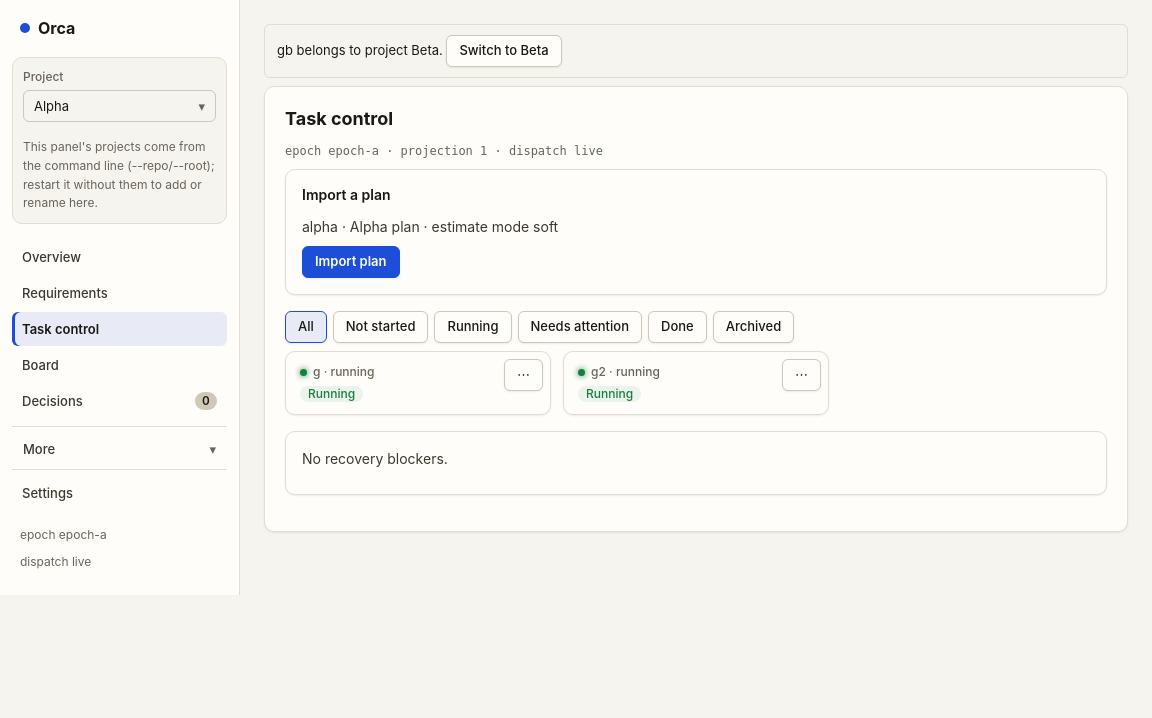
Test: another project's group (C33) › leaves the project unchanged, shows the line and the switch button; the button switches and opens the group
The width and height of the screenshot is (1152, 718).
expect the message with test id "route-notice" shows "gb belongs to project Beta.": met, box [277,42,443,58]
Click the button "Switch to Beta" at point(504, 51), box [446,35,562,67]
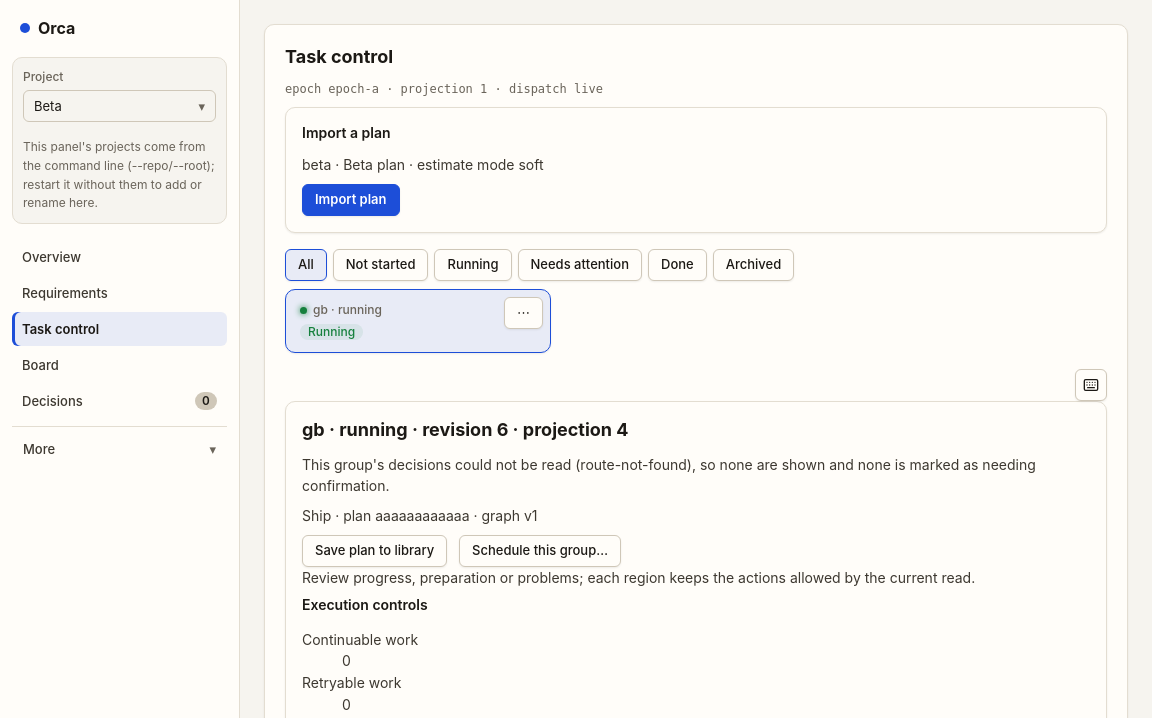
expect the text "Beta" is shown: met, box [34,98,62,115]
